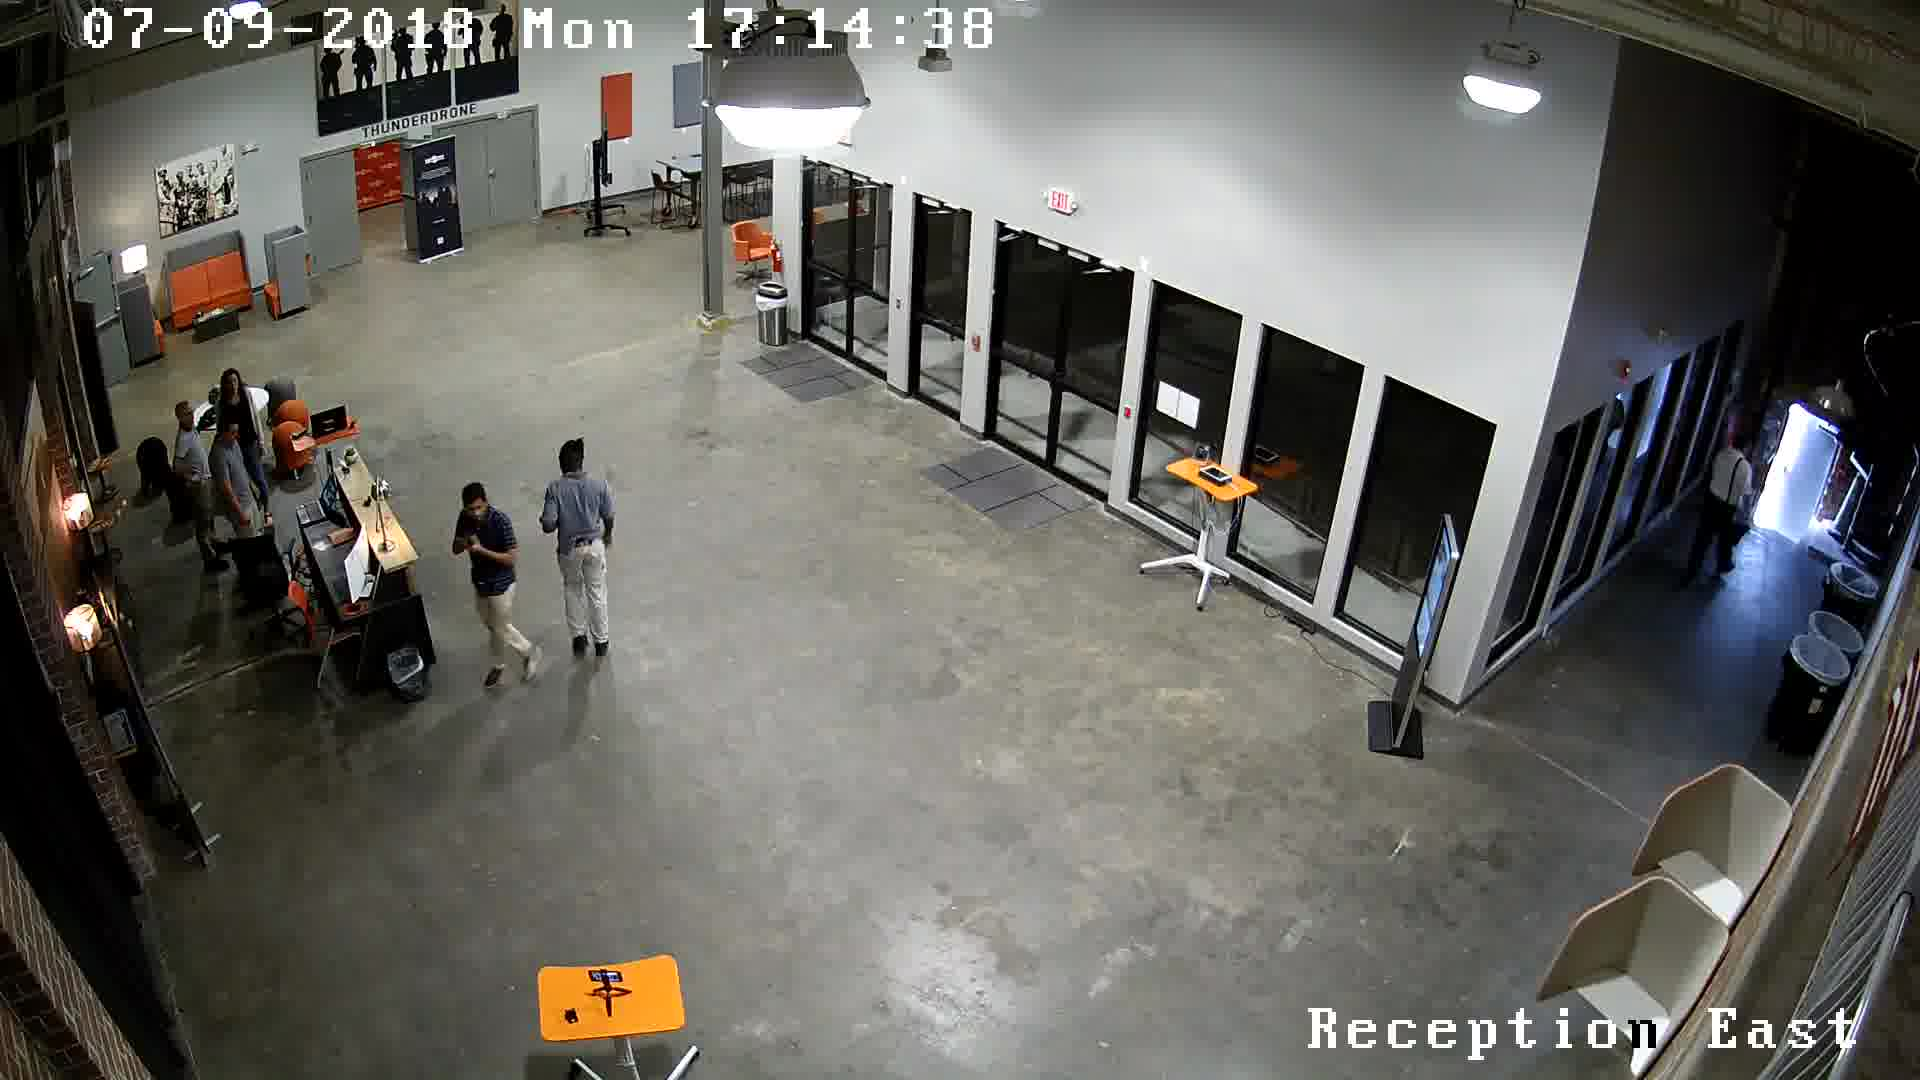pistol: (448, 530, 484, 562)
